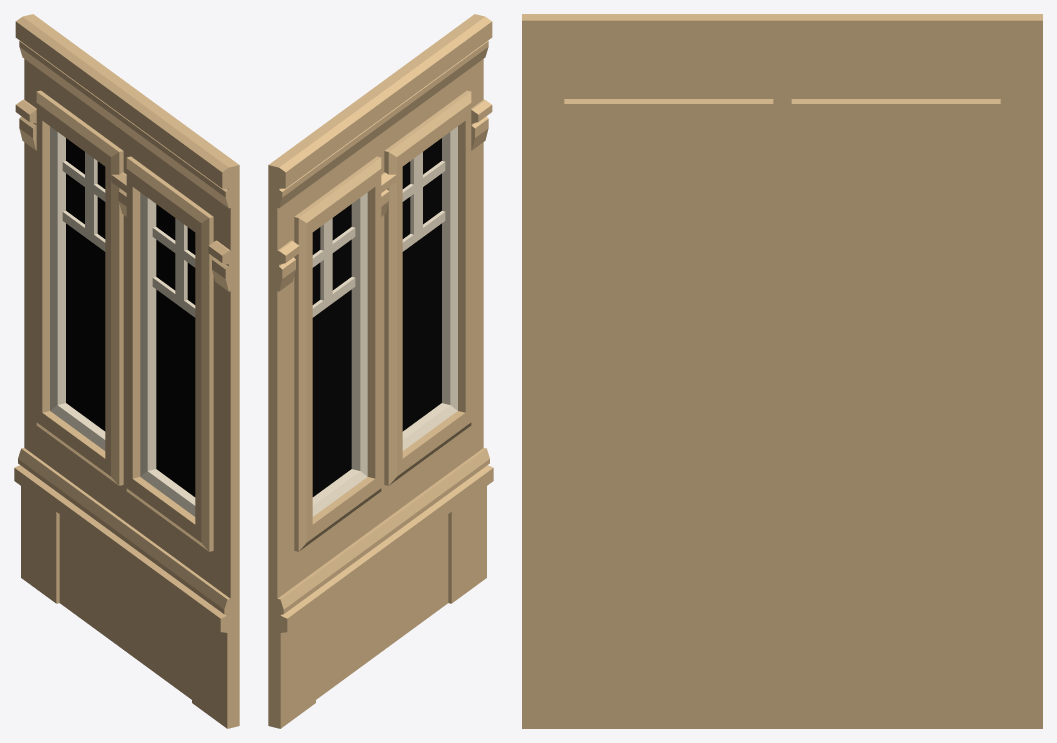
Rendered from Window_Double_2.fbx.
3 renders of one model, left to right at view 1: azimuth 30°, elevation 25°; view 2: azimuth 150°, elevation 25°; view 3: azimuth 270°, elevation 25°, orthographic. The views are drawn at different scales.
Visible parts, largest first — view 1: Window_Double_2; view 2: Window_Double_2; view 3: Window_Double_2.
Part boxes in pixels (x1,y1,x2,y2): Window_Double_2: (14, 14, 239, 728); Window_Double_2: (268, 14, 493, 728); Window_Double_2: (522, 14, 1042, 728).
Size of the model in its own units: 14.9 by 200 by 300.
